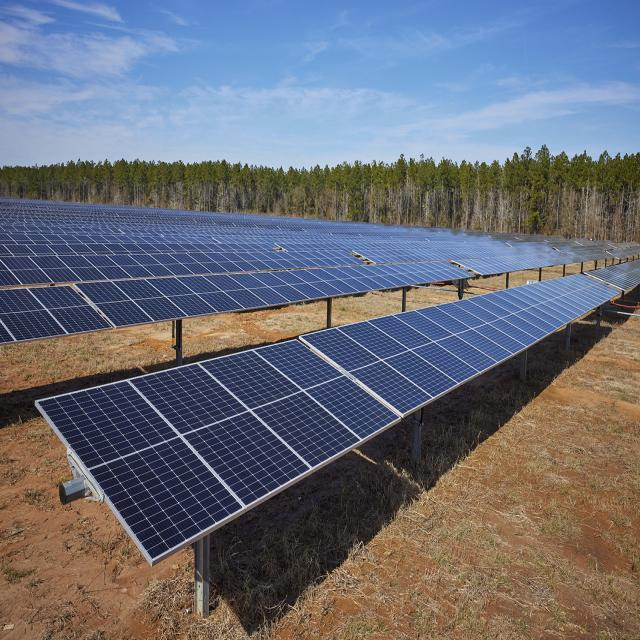clean-solar-panel: (36, 276, 618, 564), (1, 199, 640, 343)
